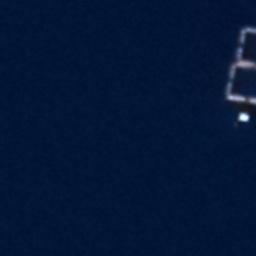square_solid: (224, 55, 256, 108), (233, 24, 256, 68)
